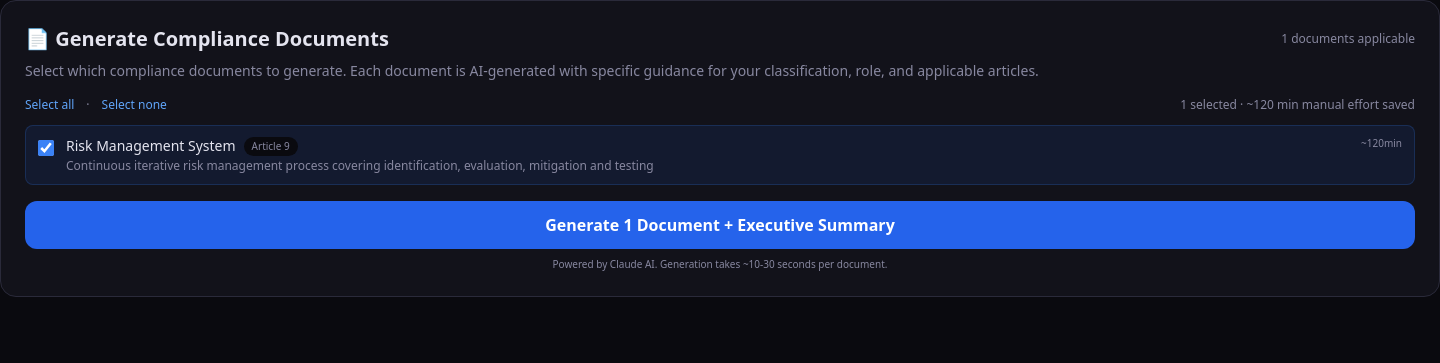
it: L6-DG-D: Done state › DG-D01: shows success message with doc count
Step 1. Click the button "Generate 1 Document + Executive Summary" → (720, 225), box [25,201,1415,249]
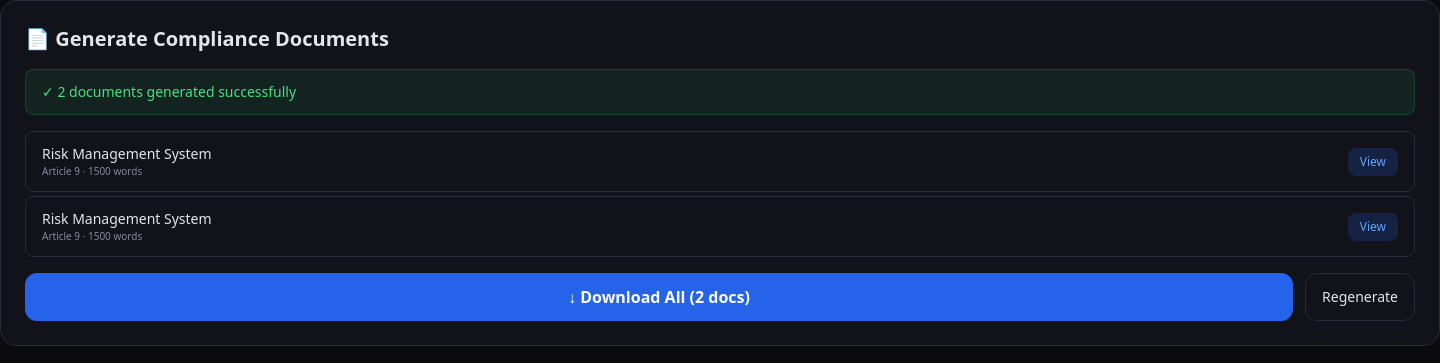
Check: the text "✓ 2 documents generated successfully" is shown, box [42,82,296,101]
